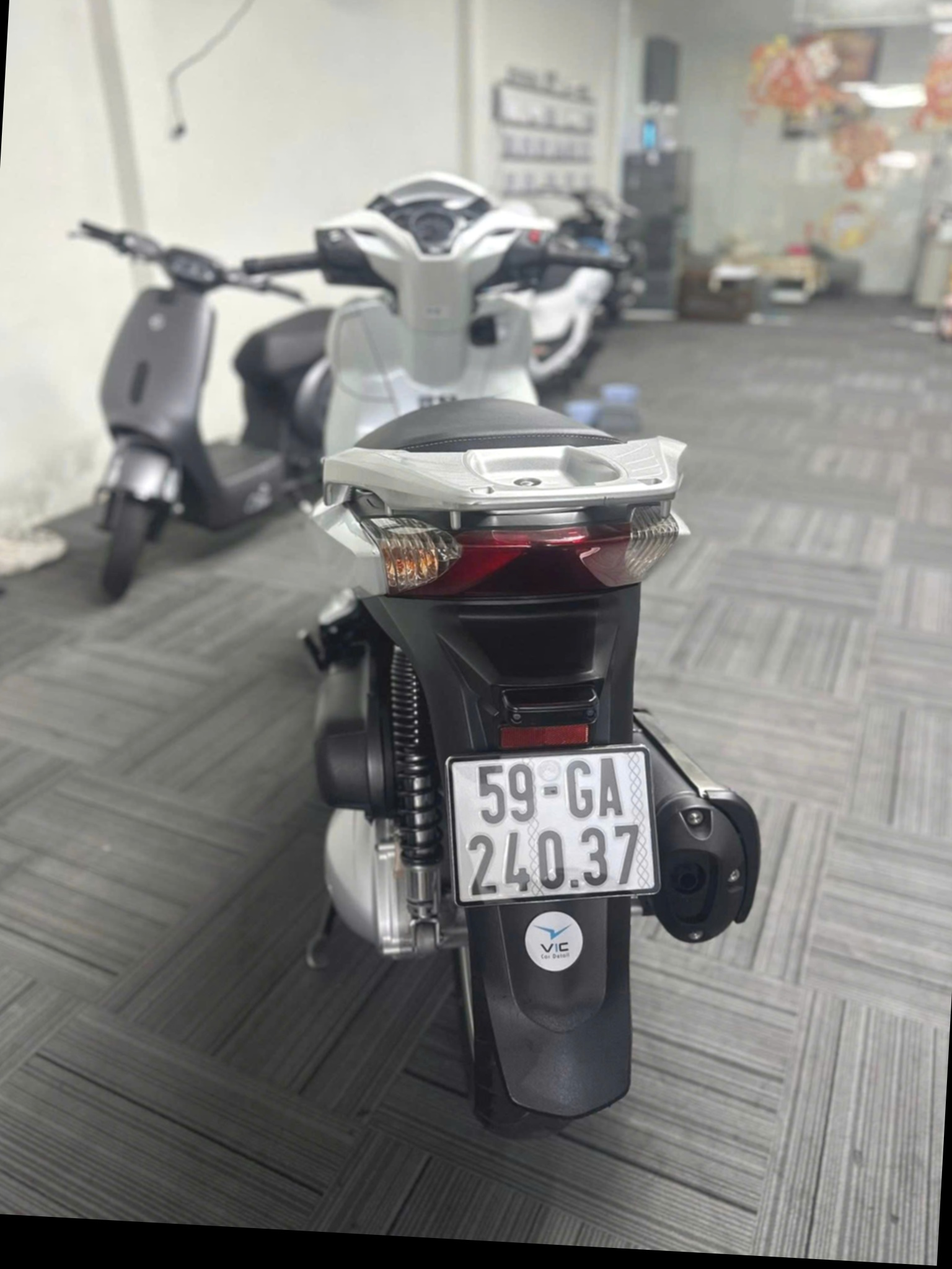Bien-so: (423, 794, 626, 968)
